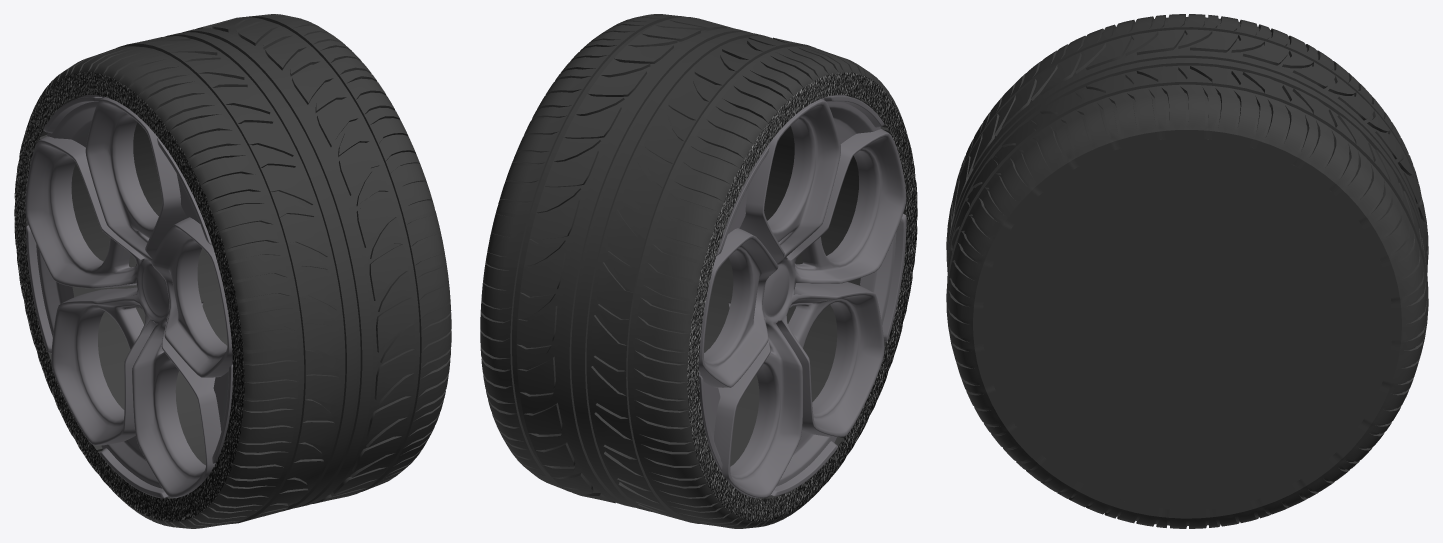
The model's file is llantap.fbx.
3 views of the same model, side by side, from view 1: azimuth 30°, elevation 25°; view 2: azimuth 150°, elevation 25°; view 3: azimuth 270°, elevation 25° (orthographic).
Visible parts, largest first — view 1: Circle.005; view 2: Circle.005; view 3: Circle.005.
Boxes of the visible parts, x1=… form: Circle.005: x1=14, y1=14, x2=451, y2=528; Circle.005: x1=480, y1=14, x2=917, y2=528; Circle.005: x1=946, y1=14, x2=1428, y2=528.
Bounding box in the file's own units: 75.06 × 149 × 149.
Materials: 2 (2 with a texture image).
